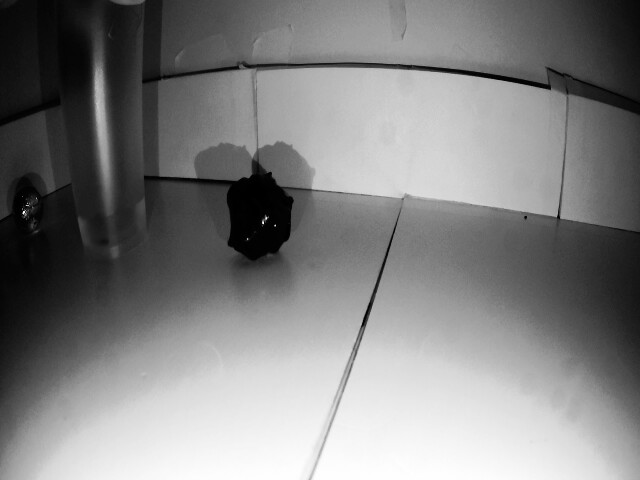black: (15, 180, 45, 235)
silver: (224, 179, 298, 263)
